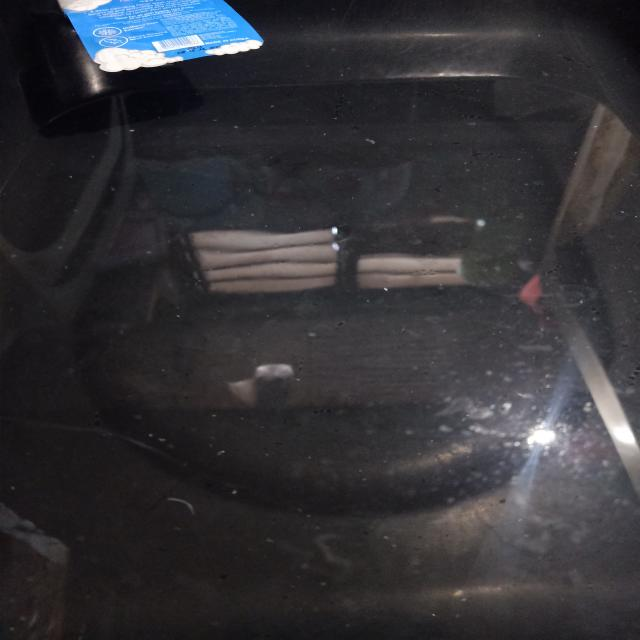Plastic Wrapper: (58, 0, 263, 72)
